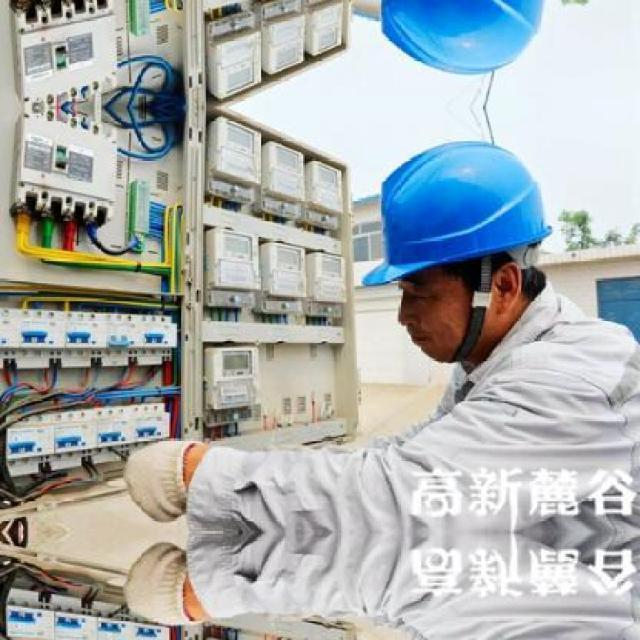helmet: (362, 141, 550, 285), (381, 0, 542, 73)
